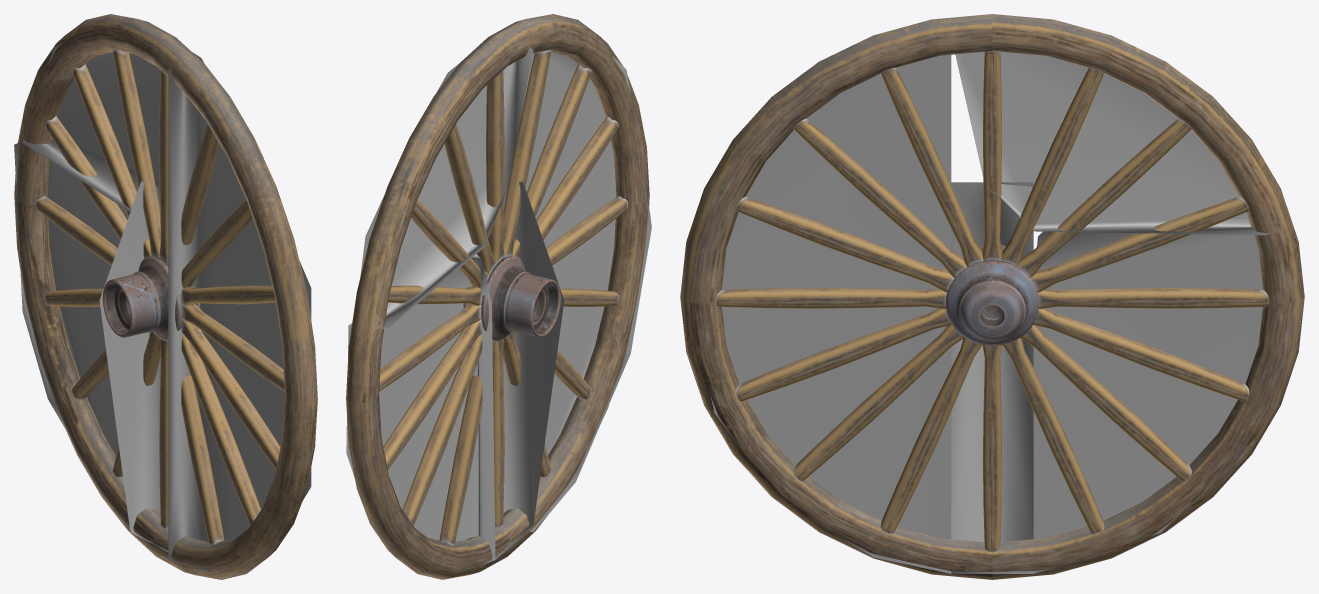
File: SM_Wooden_Wheel.gltf
3 renders of one model, left to right at view 1: azimuth 30°, elevation 25°; view 2: azimuth 150°, elevation 25°; view 3: azimuth 270°, elevation 25°, orthographic. The views are drawn at different scales.
Visible parts, largest first — view 1: SM_Wooden_Wheel_LOD0, SM_Wooden_Wheel_ConvexHulls; view 2: SM_Wooden_Wheel_LOD0, SM_Wooden_Wheel_ConvexHulls; view 3: SM_Wooden_Wheel_LOD0, SM_Wooden_Wheel_ConvexHulls.
Part boxes in pixels (x1,y1,x2,y2): SM_Wooden_Wheel_LOD0: [14, 14, 317, 579]; SM_Wooden_Wheel_ConvexHulls: [14, 42, 311, 571]; SM_Wooden_Wheel_LOD0: [346, 14, 649, 579]; SM_Wooden_Wheel_ConvexHulls: [346, 47, 651, 566]; SM_Wooden_Wheel_LOD0: [680, 14, 1304, 579]; SM_Wooden_Wheel_ConvexHulls: [708, 38, 1270, 573].
Size of what is drawn, in the model's own units: 0.2588 by 1.48 by 1.48.
